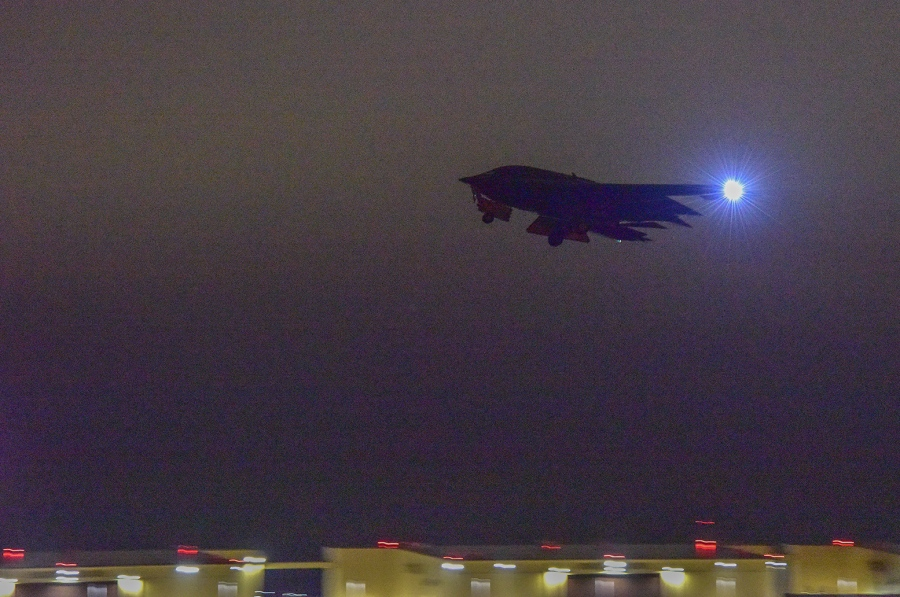B2: (458, 163, 745, 247)
